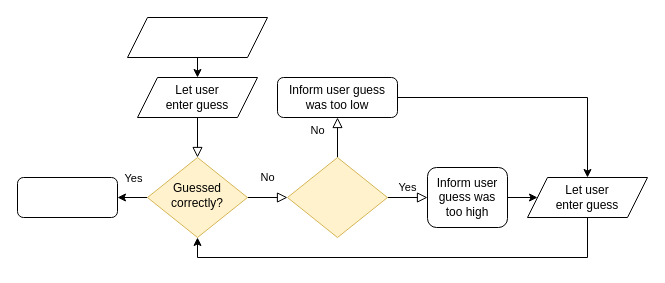
Image size: 665x283. Some labels were removed from this diagram. The centre of each missing label's shape, as x and y in pixels:
Congratulate user: (67,197)
Generate secret number: (197,37)
Guess too high?: (337,197)
